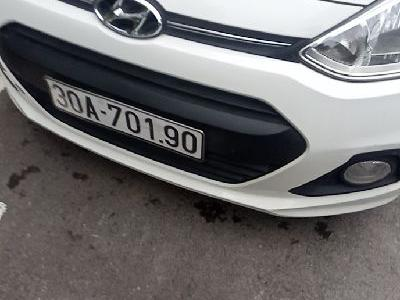car: (45, 77, 205, 163)
